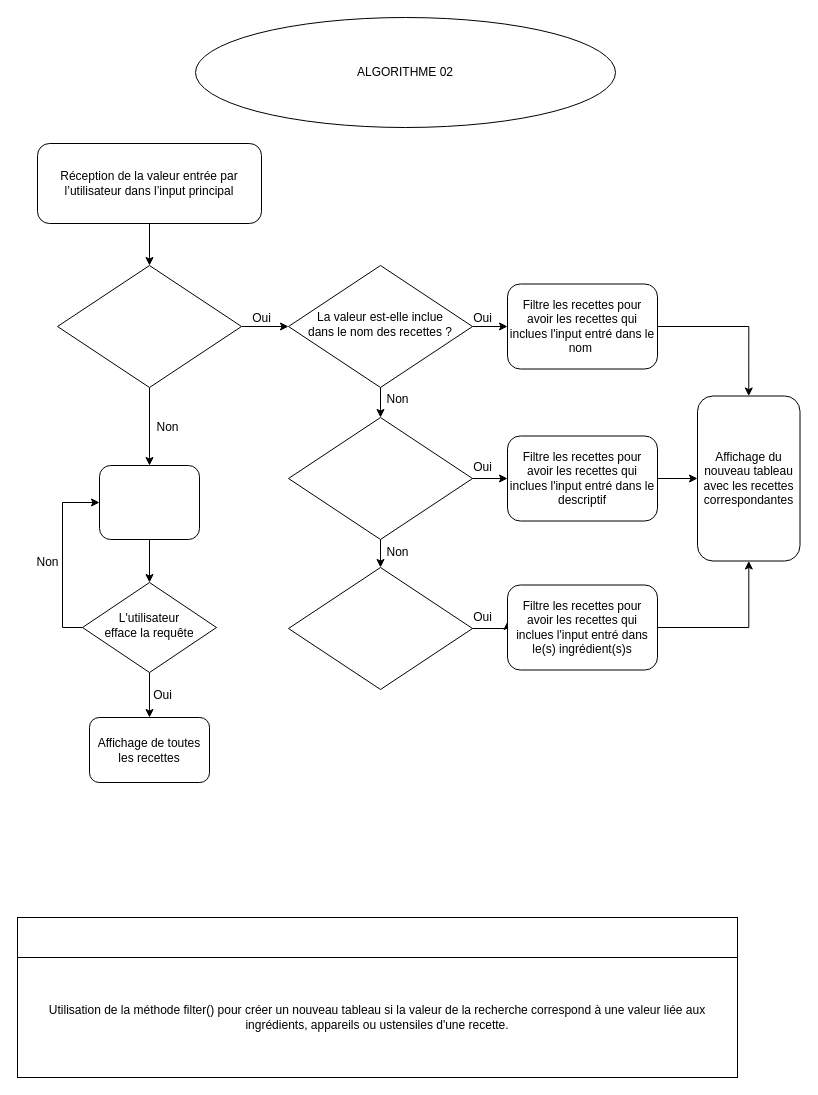
This 818x1095 diagram has some shape labels left out. The shapes that lost their labels are listed below. From the top down, each one's centre as x and y in pixels, then its label:
point 149,326: La valeur correspond à une valeur existante dans le fichier "recipes.json"
point 380,478: La valeur est-elle inclue dans la description des recettes ?
point 149,502: Affichage du message d'erreur "aucune recette trouvée"
point 380,628: La valeur est-elle inclue dans les ingrédients des recettes ?
point 377,937: Légende
